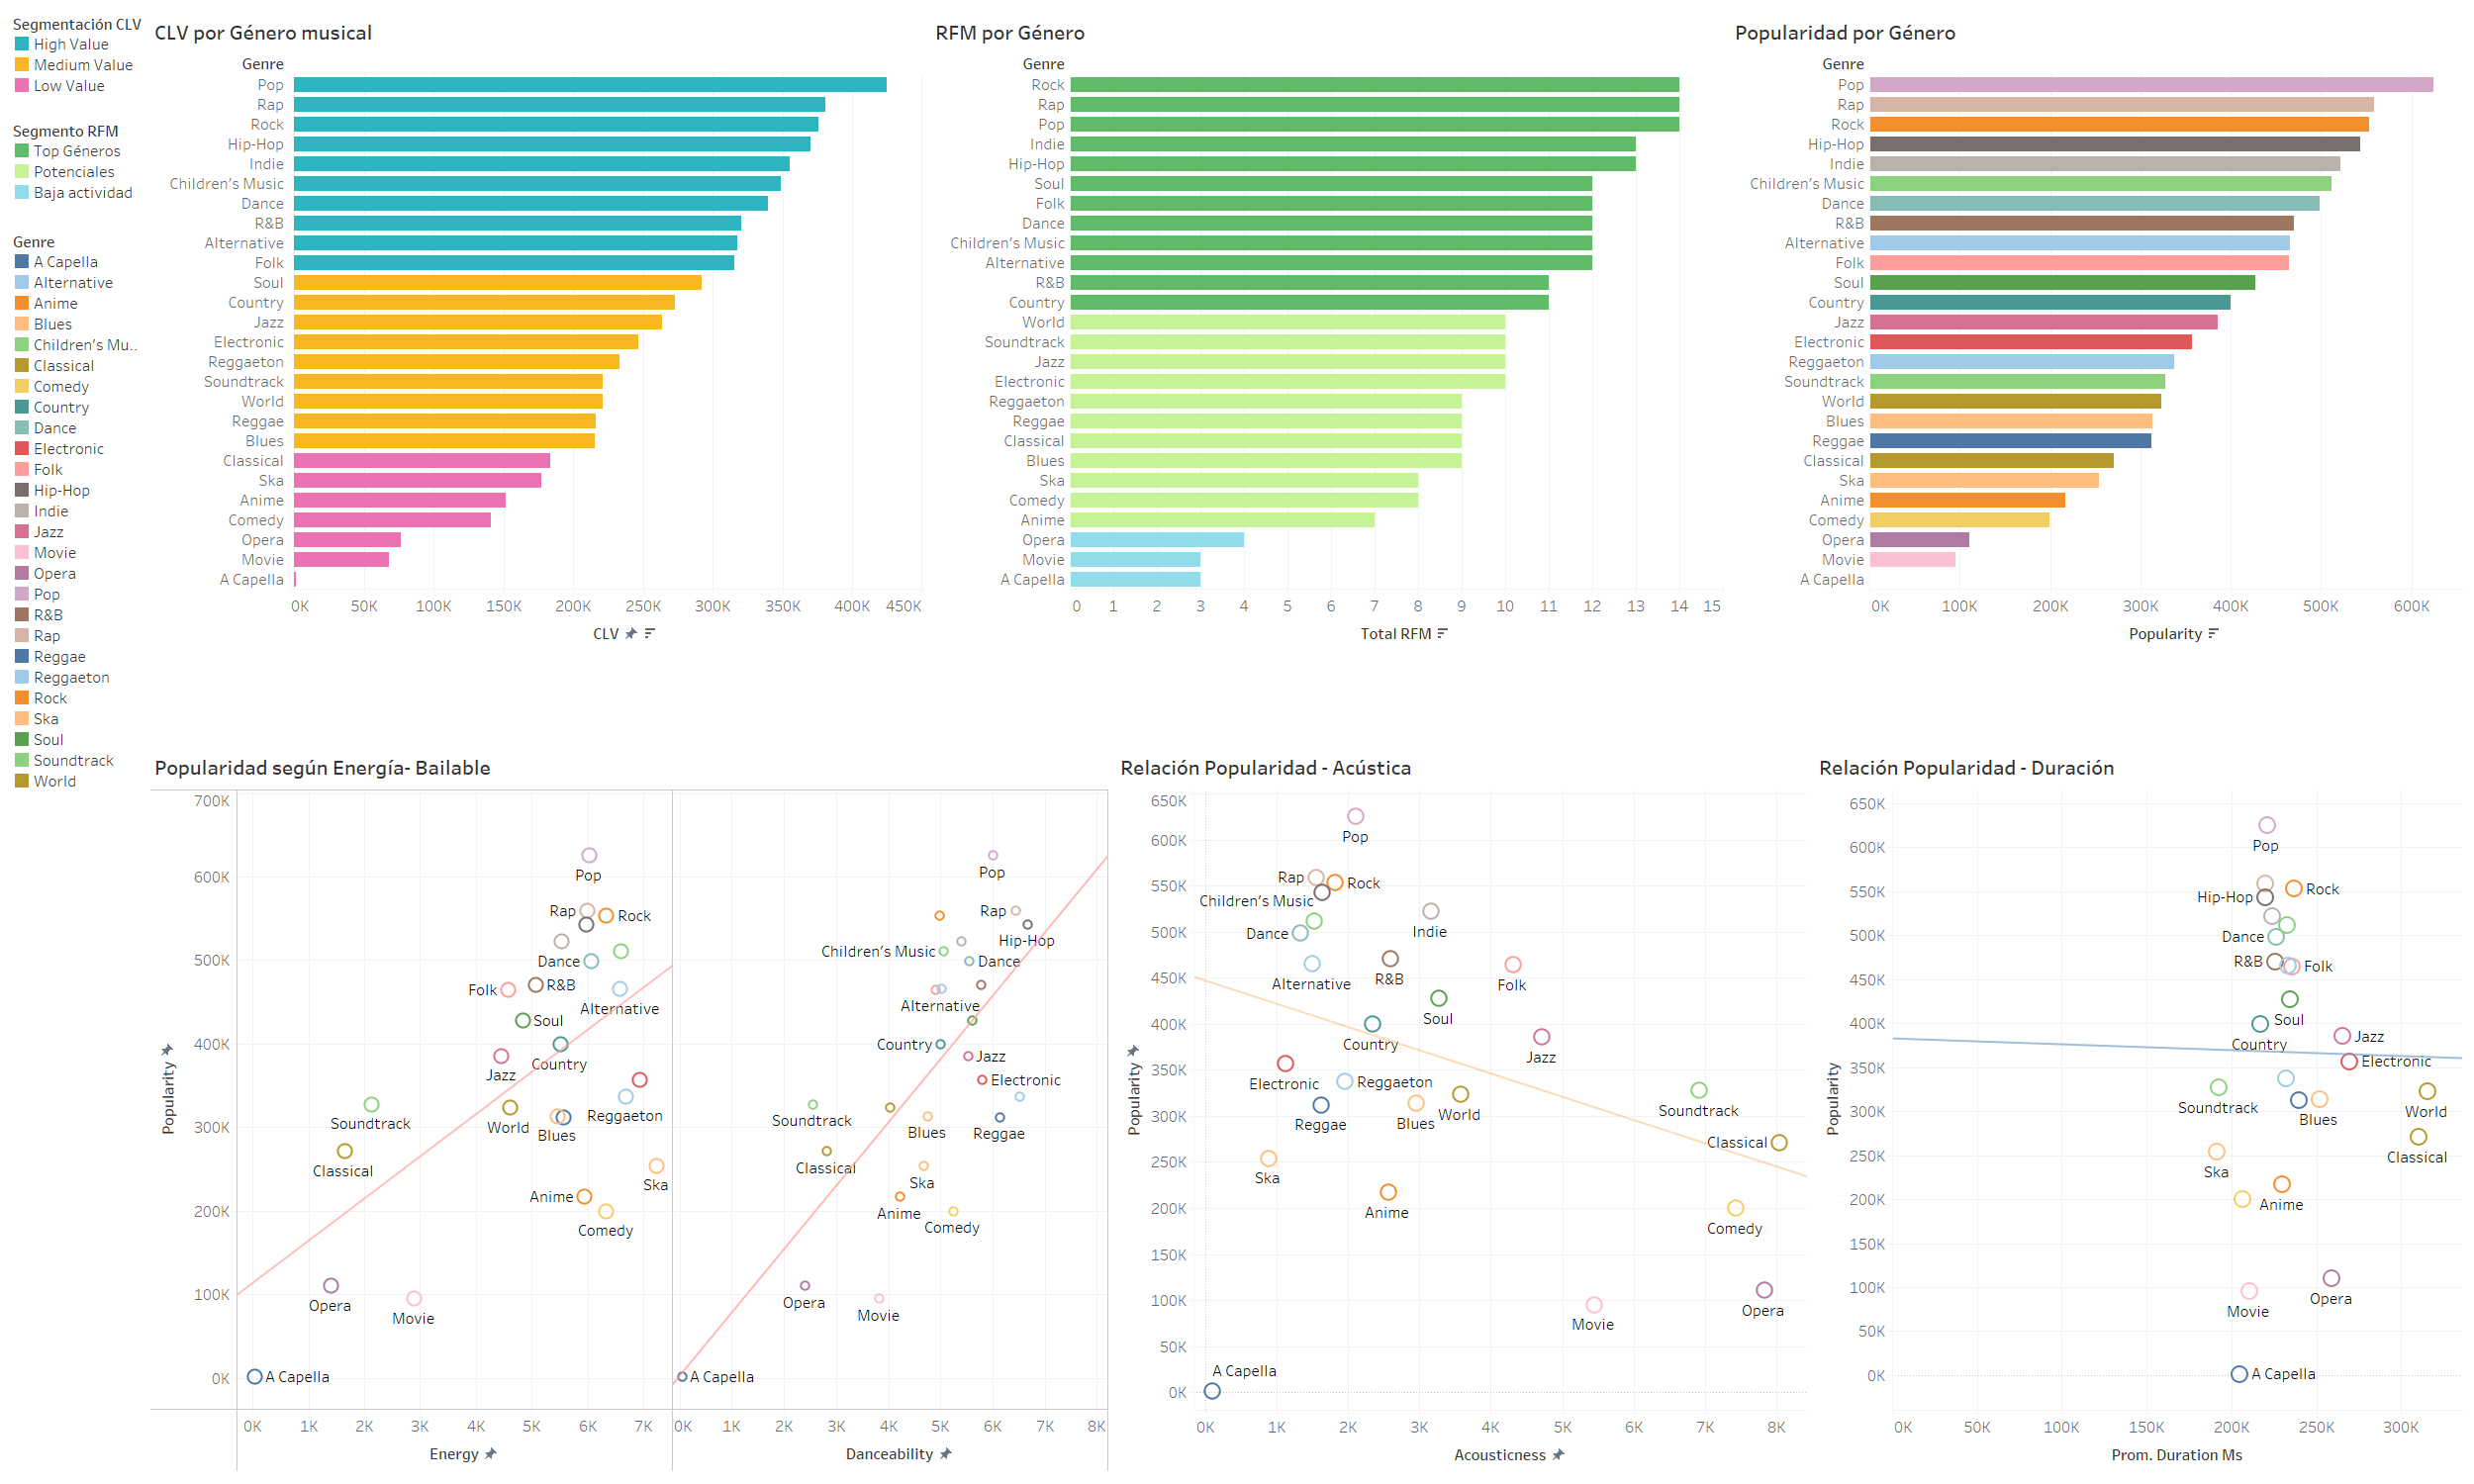

Layout of this report page (visuals, bound fields, positions):
{"tool":"tableau","page":{"name":"Dashboard 1","canvas":[2500,1500],"ordinal":0},"visuals":[{"type":"legend","title":"Hoja 8","param":"[federated.0uy70dn0bp6dnc12aayy11mk63y5].[usr:Calculation_253608979863662594:nk]","box":[8,8,140,108]},{"type":"worksheet","title":"Hoja 8","mark":"Automatic","rows":["genre"],"cols":["Calculation_253608979863363585"],"box":[148,8,788.9,743]},{"type":"worksheet","title":"Hoja 10","mark":"Automatic","rows":["genre"],"cols":["Calculation_1150669730324393994"],"box":[936.8,8,808.2,743]},{"type":"worksheet","title":"Hoja 9","mark":"Automatic","rows":["genre"],"cols":["popularity"],"box":[1745,8,747,743]},{"type":"legend","title":"Hoja 10","param":"[federated.0uy70dn0bp6dnc12aayy11mk63y5].[usr:Calculation_569142428914573313:nk]","box":[8,116,140,112]},{"type":"legend","title":"Hoja 9","param":"[federated.0uy70dn0bp6dnc12aayy11mk63y5].[none:genre:nk]","box":[8,228,140,1264]},{"type":"worksheet","title":"Hoja 2","mark":"Automatic","rows":["popularity"],"cols":["energy","danceability"],"box":[148,751,976.1,741]},{"type":"worksheet","title":"Hoja 4","mark":"Shape","rows":["popularity"],"cols":["acousticness"],"box":[1124,751,705.6,741]},{"type":"worksheet","title":"Hoja 7","mark":"Shape","rows":["popularity"],"cols":["vtavg"],"box":[1829.6,751,662.5,741]}]}

Visuals, with their boxes in screenshot pixels (x1, y1, x2, y2), scaled from the page's 2500x1500 canvas onto the 2474x1484 screenshot:
"Hoja 8" legend: <box>8,8,146,115</box>
"Hoja 8" worksheet: <box>146,8,927,743</box>
"Hoja 10" worksheet: <box>927,8,1727,743</box>
"Hoja 9" worksheet: <box>1727,8,2466,743</box>
"Hoja 10" legend: <box>8,115,146,226</box>
"Hoja 9" legend: <box>8,226,146,1476</box>
"Hoja 2" worksheet: <box>146,743,1112,1476</box>
"Hoja 4" worksheet (Shape marks): <box>1112,743,1811,1476</box>
"Hoja 7" worksheet (Shape marks): <box>1811,743,2466,1476</box>
